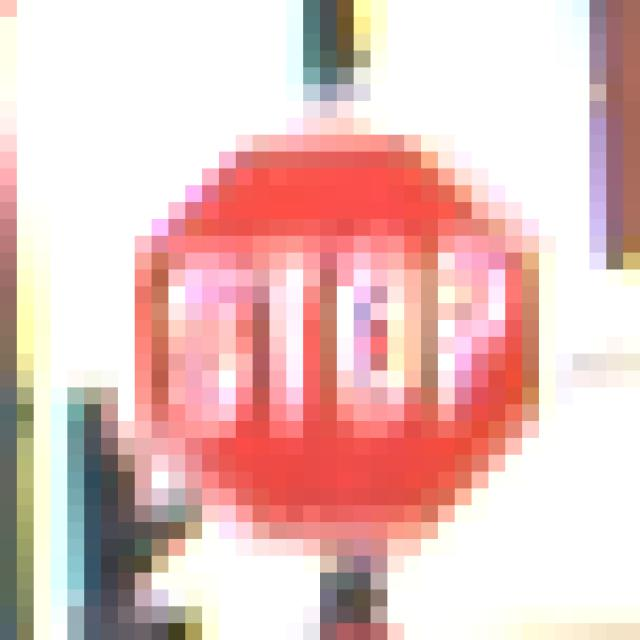STOP: (102, 85, 557, 540)
